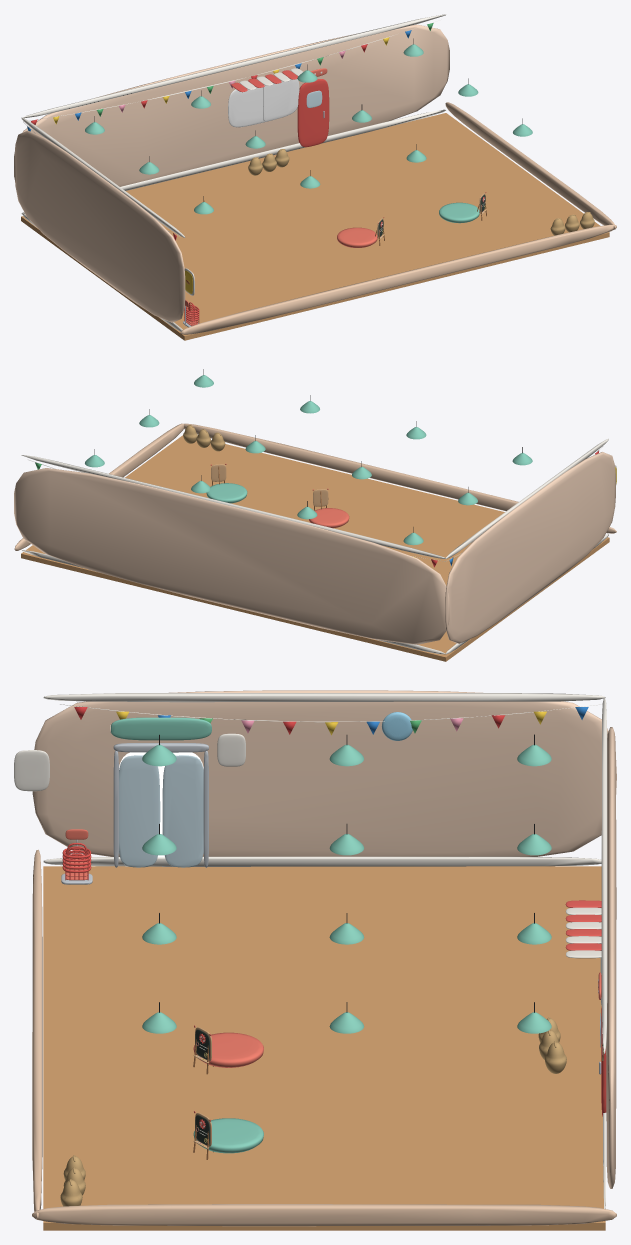
The model's file is tienda2_base.glb.
The picture shows the model from 3 angles, top to bottom: view 1: azimuth 30°, elevation 25°; view 2: azimuth 150°, elevation 25°; view 3: azimuth 270°, elevation 25°; orthographic projection. The views are drawn at different scales.
Visible parts, largest first — view 1: piso.001, pared fondo.001, pared izquierda.001, muro bajo frente.001, marco.002, muro bajo derecha.001, cornisa fondo.001, zócalo fondo.001, puerta.001, cornisa izquierda.001, tarima oferta.002, tarima oferta.001; view 2: pared fondo.001, piso.001, pared izquierda.001, muro bajo frente.001, cornisa fondo.001, muro bajo derecha.001, cornisa izquierda.001, tarima oferta.002, tarima oferta.001, zócalo fondo.001; view 3: piso.001, pared izquierda.001, muro bajo derecha.001, cornisa izquierda.001, zócalo izquierdo.001, pared fondo.001, hoja puerta.003, hoja puerta.002, muro bajo frente.001, cornisa fondo.001, letrero.003, tarima oferta.002 (+5 smaller).
Boxes of the visible parts, x1,y1,x2,y2 form: piso.001: (21, 113, 609, 340); pared fondo.001: (14, 24, 449, 186); pared izquierda.001: (15, 130, 185, 322); muro bajo frente.001: (180, 224, 616, 334); marco.002: (228, 78, 299, 127); muro bajo derecha.001: (445, 102, 616, 229); cornisa fondo.001: (23, 14, 446, 118); zócalo fondo.001: (22, 109, 445, 213); puerta.001: (297, 79, 329, 147); cornisa izquierda.001: (21, 117, 185, 237); tarima oferta.002: (439, 202, 479, 223); tarima oferta.001: (337, 227, 377, 247); pared fondo.001: (14, 468, 449, 644); piso.001: (21, 435, 609, 661); pared izquierda.001: (445, 452, 615, 643); muro bajo frente.001: (184, 423, 616, 533); cornisa fondo.001: (21, 455, 445, 558); muro bajo derecha.001: (14, 423, 183, 550); cornisa izquierda.001: (445, 438, 608, 558); tarima oferta.002: (206, 483, 247, 503); tarima oferta.001: (309, 508, 349, 528); zócalo fondo.001: (21, 550, 445, 654); piso.001: (43, 866, 605, 1230); pared izquierda.001: (32, 690, 616, 856); muro bajo derecha.001: (32, 1204, 616, 1226); cornisa izquierda.001: (43, 693, 605, 702); zócalo izquierdo.001: (43, 856, 601, 866); pared fondo.001: (606, 727, 616, 1188); hoja puerta.003: (162, 755, 203, 867); hoja puerta.002: (119, 755, 160, 867); muro bajo frente.001: (32, 849, 42, 1218); cornisa fondo.001: (601, 697, 607, 1053); letrero.003: (111, 717, 211, 740); tarima oferta.002: (193, 1118, 263, 1153).
Size of the model in its own units: 15.4 by 3.61 by 10.72.
